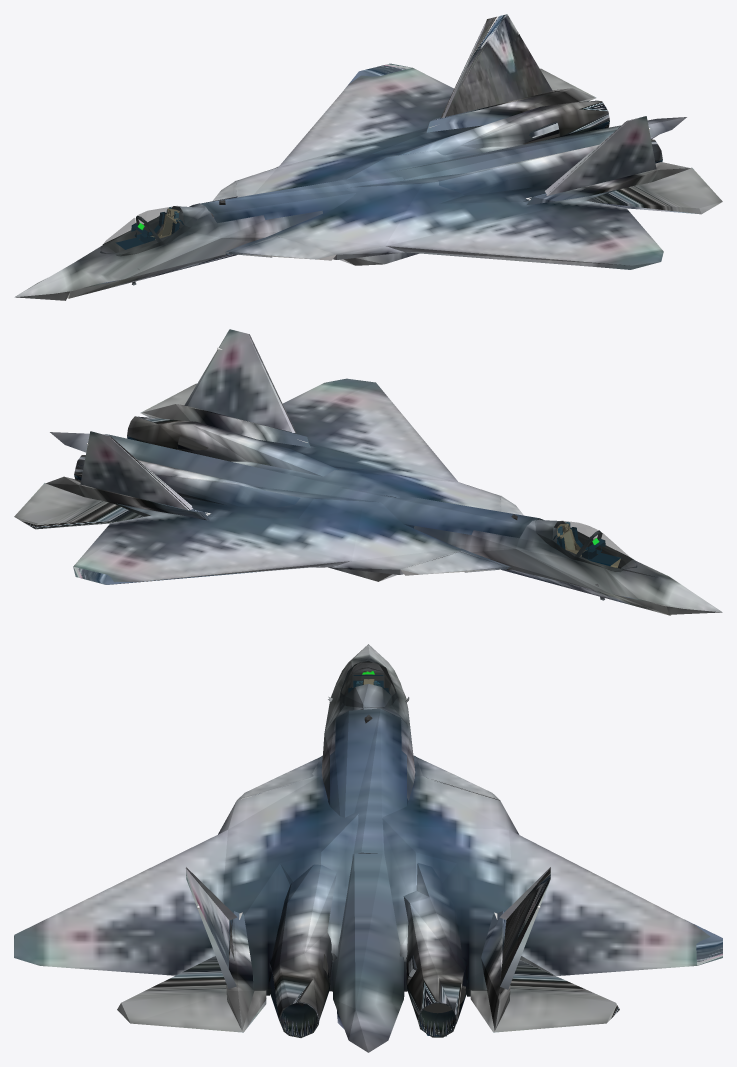
The picture shows the model from 3 angles, top to bottom: view 1: azimuth 30°, elevation 25°; view 2: azimuth 150°, elevation 25°; view 3: azimuth 270°, elevation 25°; orthographic projection. The views are drawn at different scales.
Parts seen in each view (by area): view 1: Object_5, Object_6, Object_8, Object_10, Object_7, Object_13; view 2: Object_5, Object_6, Object_8, Object_10, Object_7, Object_13; view 3: Object_5, Object_6, Object_8, Object_7, Object_10.
Boxes of the visible parts, <box> form: Object_5: <box>16,14,722,300</box>; Object_6: <box>14,14,656,297</box>; Object_8: <box>201,171,404,223</box>; Object_10: <box>100,200,225,253</box>; Object_7: <box>67,74,718,298</box>; Object_13: <box>115,212,184,249</box>; Object_5: <box>14,378,721,614</box>; Object_6: <box>73,329,722,612</box>; Object_8: <box>332,487,543,538</box>; Object_10: <box>512,514,635,568</box>; Object_7: <box>18,388,671,615</box>; Object_13: <box>553,527,621,565</box>; Object_5: <box>14,653,710,1052</box>; Object_6: <box>43,644,722,996</box>; Object_8: <box>328,708,408,853</box>; Object_7: <box>124,692,590,1036</box>; Object_10: <box>341,662,395,719</box>.
Bounding box in the file's own units: 2.71 × 0.4513 × 1.89.
Materials: 17 (6 with a texture image).
